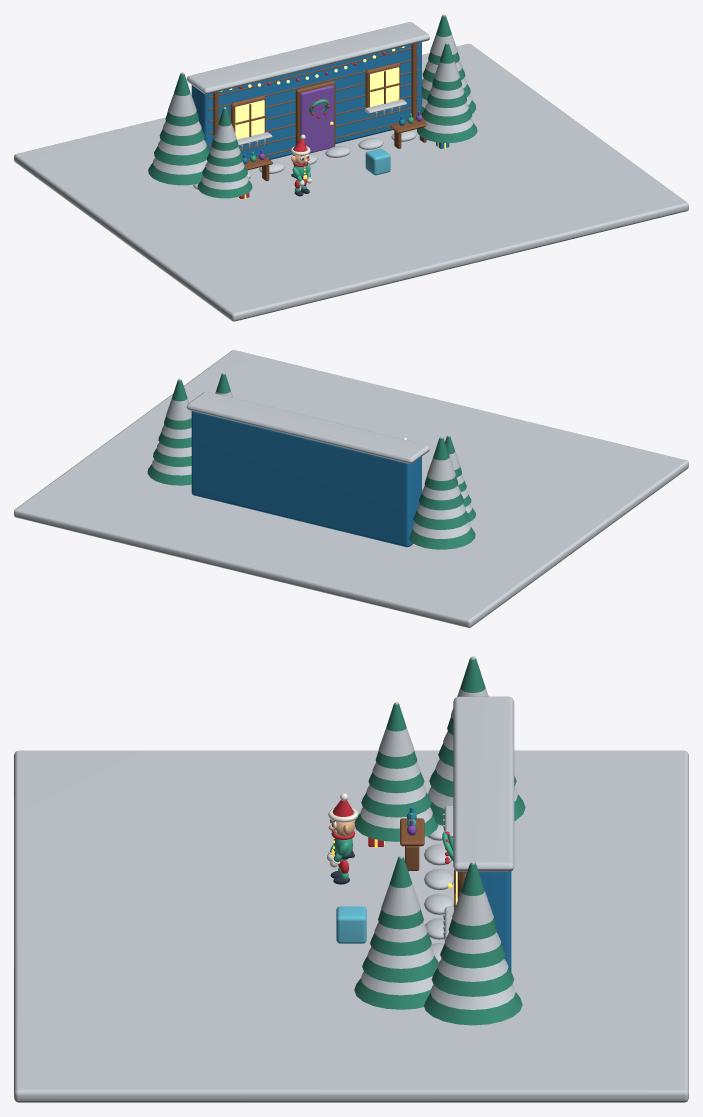
The model's file is chapter-19.glb.
3 views of the same model, one above another, from view 1: azimuth 30°, elevation 25°; view 2: azimuth 150°, elevation 25°; view 3: azimuth 270°, elevation 25° (orthographic). The views are drawn at different scales.
Visible parts, largest first — view 1: Schneeboden, Werkstatt, Schneegesims, Wichteltür, Warmes Fenster, Warmes Fenster.001, Tannenzweig.008, Tannenzweig.009, Tannenzweig.004, Türrahmen, Tannenzweig.011, Eiswürfel (+7 smaller); view 2: Schneeboden, Werkstatt, Schneegesims, Tannenzweig.008, Tannenzweig.009, Tannenzweig.011, Schnee.008, Schnee.011, Tannenzweig.015, Tannenzweig.012, Tannenzweig.010, Schnee.009 (+1 smaller); view 3: Schneeboden, Schneegesims, Werkstatt, Tannenzweig.012, Tannenzweig.013, Tannenzweig.015, Schnee.012, Eiswürfel, Tannenzweig.005, Tannenzweig.004, Schnee.015, Tannenzweig.007 (+15 smaller).
Boxes of the visible parts, bbox=[...] form: Schneeboden: bbox=[14, 43, 688, 321]; Werkstatt: bbox=[191, 42, 421, 159]; Schneegesims: bbox=[186, 22, 429, 94]; Wichteltür: bbox=[300, 85, 333, 153]; Warmes Fenster: bbox=[235, 100, 264, 139]; Warmes Fenster.001: bbox=[370, 67, 399, 106]; Tannenzweig.008: bbox=[148, 163, 202, 185]; Tannenzweig.009: bbox=[154, 146, 209, 165]; Tannenzweig.004: bbox=[417, 122, 477, 142]; Türrahmen: bbox=[295, 81, 335, 146]; Tannenzweig.011: bbox=[165, 73, 198, 126]; Eiswürfel: bbox=[365, 148, 390, 175]; Schneeboden: bbox=[14, 350, 688, 627]; Werkstatt: bbox=[191, 411, 421, 547]; Schneegesims: bbox=[186, 391, 429, 463]; Tannenzweig.008: bbox=[408, 527, 475, 549]; Tannenzweig.009: bbox=[413, 510, 469, 529]; Tannenzweig.011: bbox=[424, 437, 458, 490]; Schnee.008: bbox=[412, 522, 470, 538]; Schnee.011: bbox=[427, 436, 455, 480]; Tannenzweig.015: bbox=[164, 380, 191, 429]; Tannenzweig.012: bbox=[147, 464, 191, 485]; Tannenzweig.010: bbox=[419, 493, 463, 510]; Schnee.009: bbox=[417, 504, 465, 519]; Schneeboden: bbox=[14, 750, 688, 1102]; Schneegesims: bbox=[453, 696, 514, 871]; Werkstatt: bbox=[466, 871, 511, 971]; Tannenzweig.012: bbox=[424, 992, 522, 1025]; Tannenzweig.013: bbox=[431, 968, 514, 996]; Tannenzweig.015: bbox=[448, 863, 497, 939]; Schnee.012: bbox=[430, 985, 515, 1009]; Eiswürfel: bbox=[336, 906, 366, 943]; Tannenzweig.005: bbox=[362, 955, 438, 982]; Tannenzweig.004: bbox=[354, 978, 430, 1009]; Schnee.015: bbox=[452, 861, 493, 925]; Tannenzweig.007: bbox=[378, 857, 423, 929].
Bounding box in the file's own units: 18 × 4.39 × 15.
